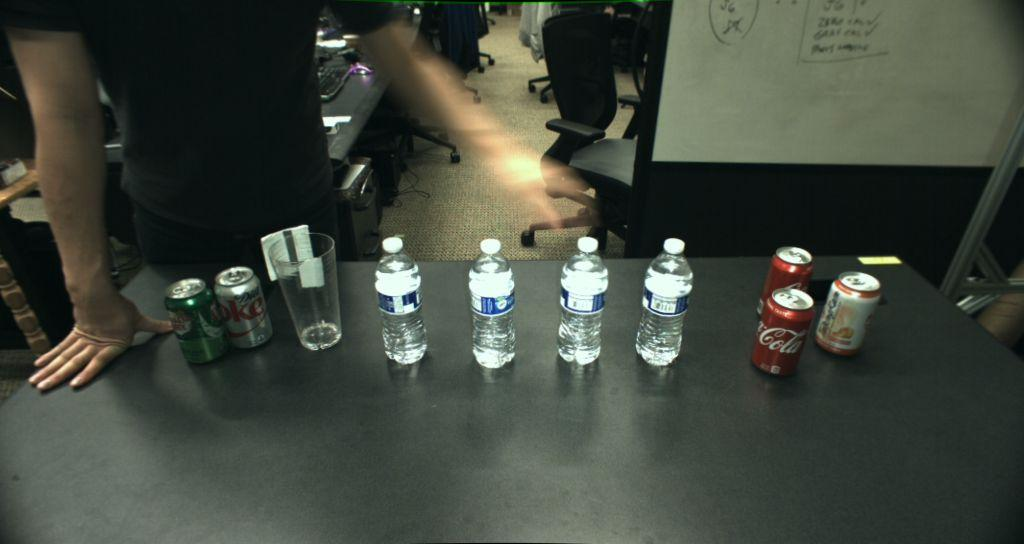can_coke: (751, 288, 813, 376)
can_diet_coke: (214, 264, 275, 351)
can_ginger_ale: (166, 279, 228, 365)
can_talking_rain_peach_nectarine: (815, 271, 881, 356)
water_bottle: (635, 238, 693, 366), (375, 237, 427, 365), (558, 237, 608, 365), (468, 238, 515, 368)
